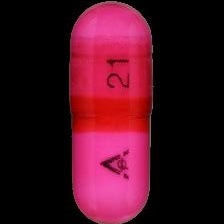63187-232: (0, 0, 224, 224)
